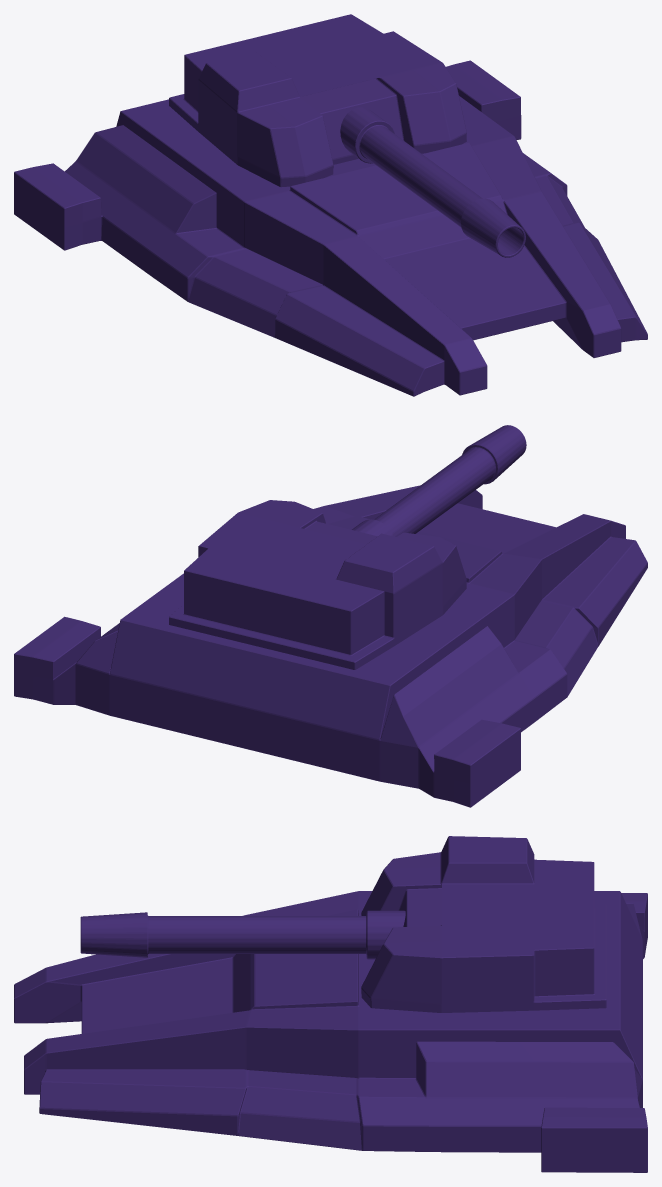
The model's file is hovertank5.fbx.
3 views of the same model, one above another, from view 1: azimuth 30°, elevation 25°; view 2: azimuth 150°, elevation 25°; view 3: azimuth 270°, elevation 25° (orthographic). The views are drawn at different scales.
Visible parts, largest first — view 1: TankCorpse, TankTower, TankGun; view 2: TankCorpse, TankTower, TankGun; view 3: TankCorpse, TankTower, TankGun.
Boxes of the visible parts, x1,y1,x2,y2 form: TankCorpse: [14, 60, 647, 396]; TankTower: [169, 14, 466, 187]; TankGun: [340, 107, 525, 257]; TankCorpse: [14, 485, 647, 807]; TankTower: [169, 500, 466, 669]; TankGun: [352, 425, 526, 536]; TankCorpse: [14, 891, 647, 1172]; TankTower: [361, 836, 606, 1012]; TankGun: [80, 910, 405, 959].
Bounding box in the file's own units: 460 × 155 × 524.
